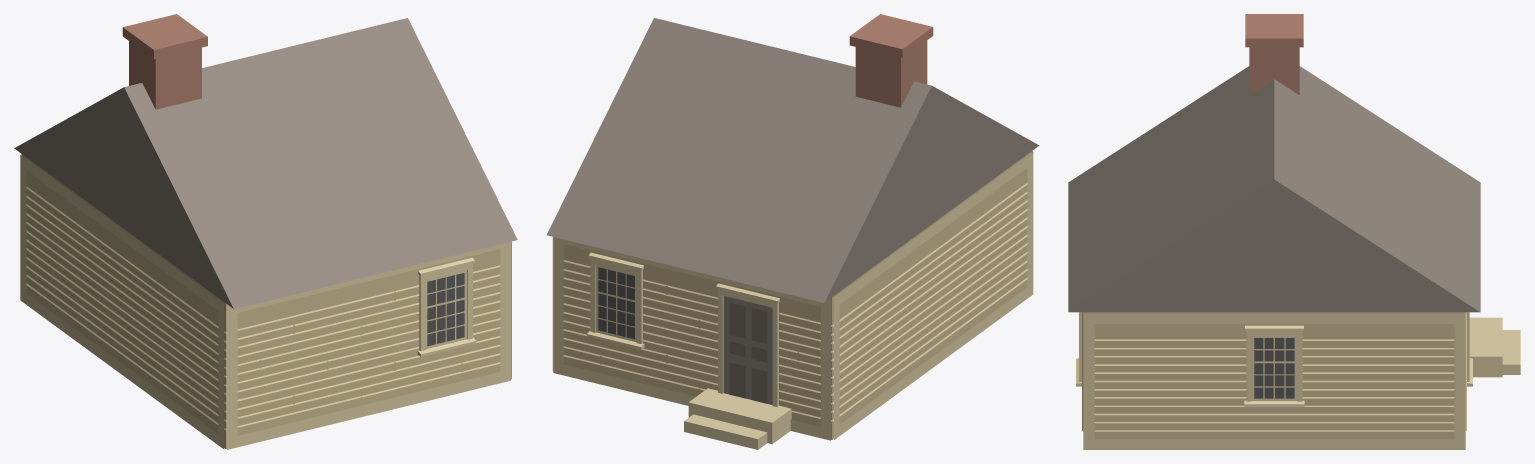
The model's file is recon_1835_south_d3_017__inferred_1835.glb.
The picture shows the model from 3 angles, left to right: view 1: azimuth 30°, elevation 25°; view 2: azimuth 150°, elevation 25°; view 3: azimuth 270°, elevation 25°; orthographic projection. The views are drawn at different scales.
Parts seen in each view (by area): view 1: recon_1835_south_d3_017__inferred_1835; view 2: recon_1835_south_d3_017__inferred_1835; view 3: recon_1835_south_d3_017__inferred_1835.
Boxes of the visible parts, x1,y1,x2,y2 form: recon_1835_south_d3_017__inferred_1835: [14, 14, 517, 449]; recon_1835_south_d3_017__inferred_1835: [546, 14, 1039, 449]; recon_1835_south_d3_017__inferred_1835: [1068, 14, 1520, 449].
Bounding box in the file's own units: 5.3 × 5.76 × 7.57.
